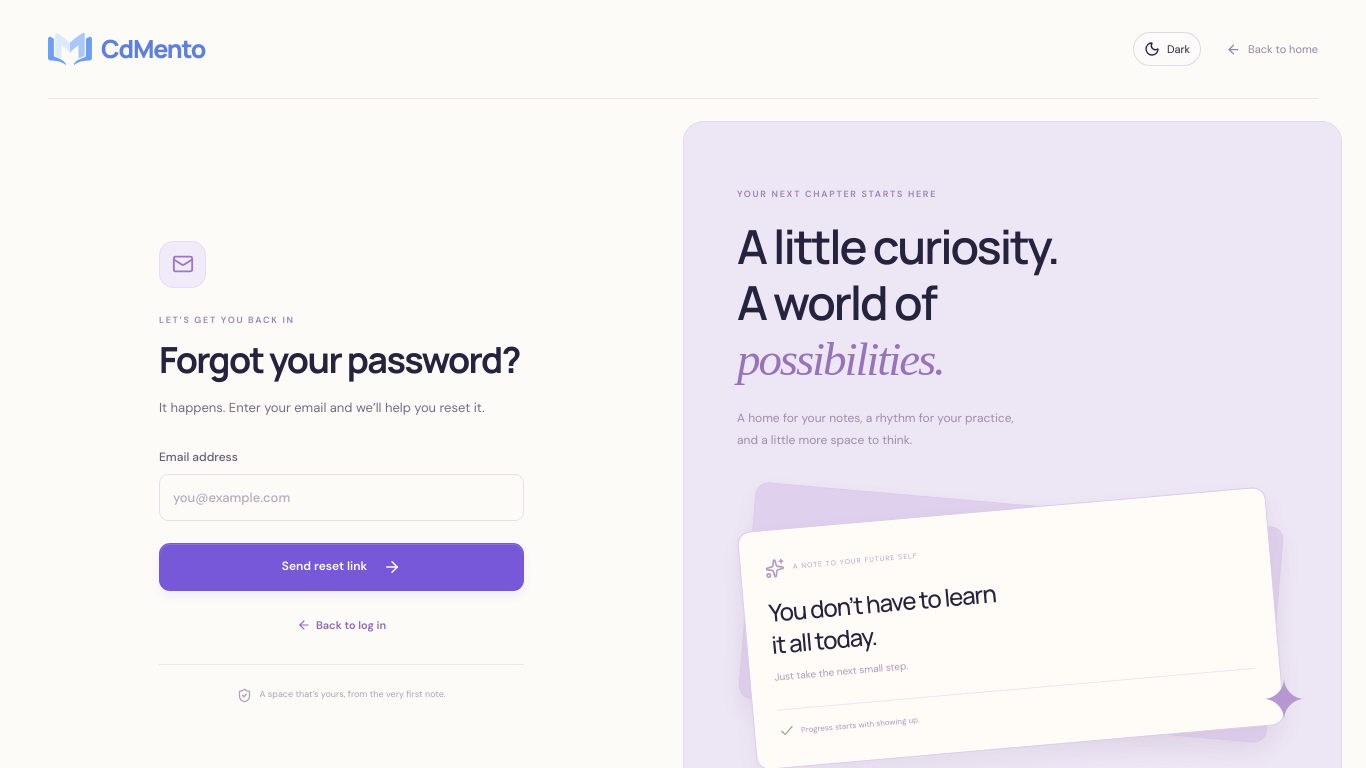
Scenario: configured account flows › gives a neutral confirmation after a successful reset request
Type "learner@example.com" into the field labelled "Email address" at [342, 497], box x1=159 y1=474 x2=524 y2=521
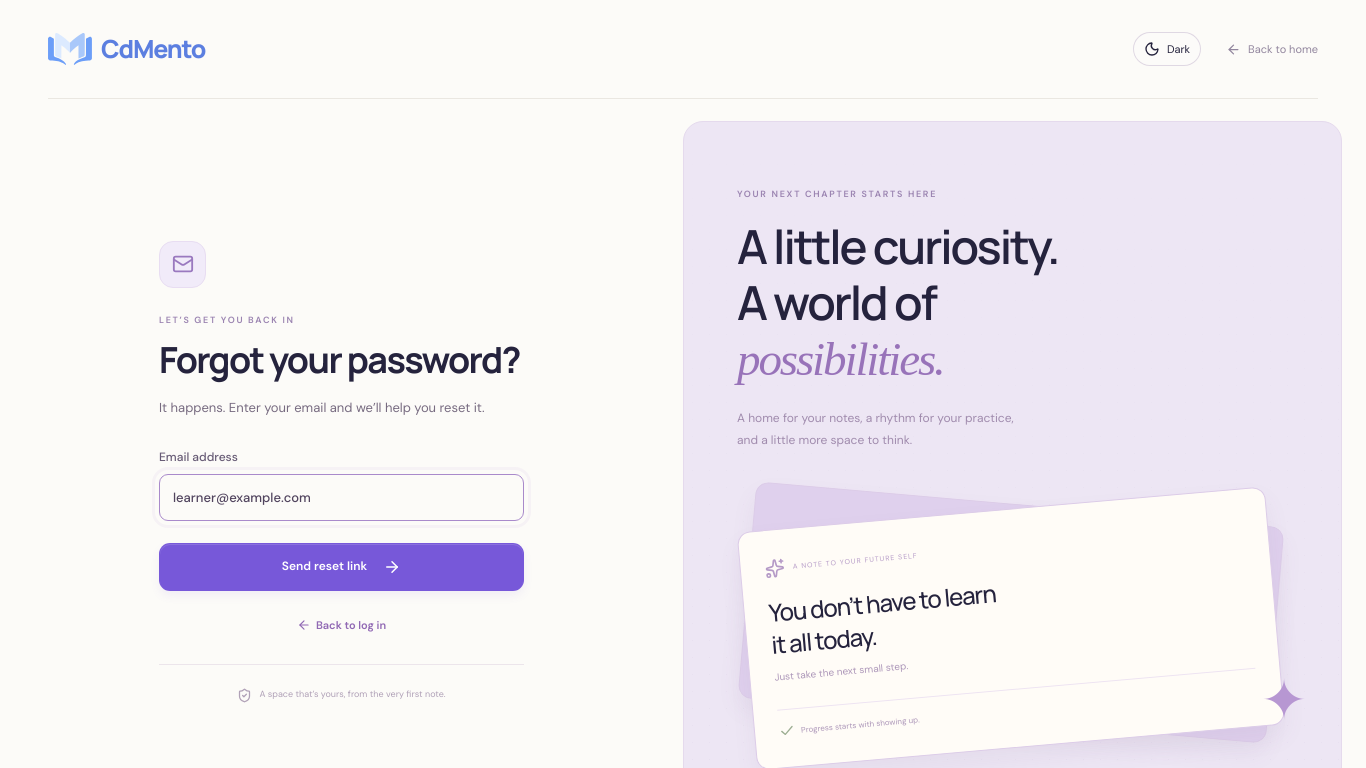
Click the button "Send reset link" at [342, 567], box x1=159 y1=543 x2=524 y2=591
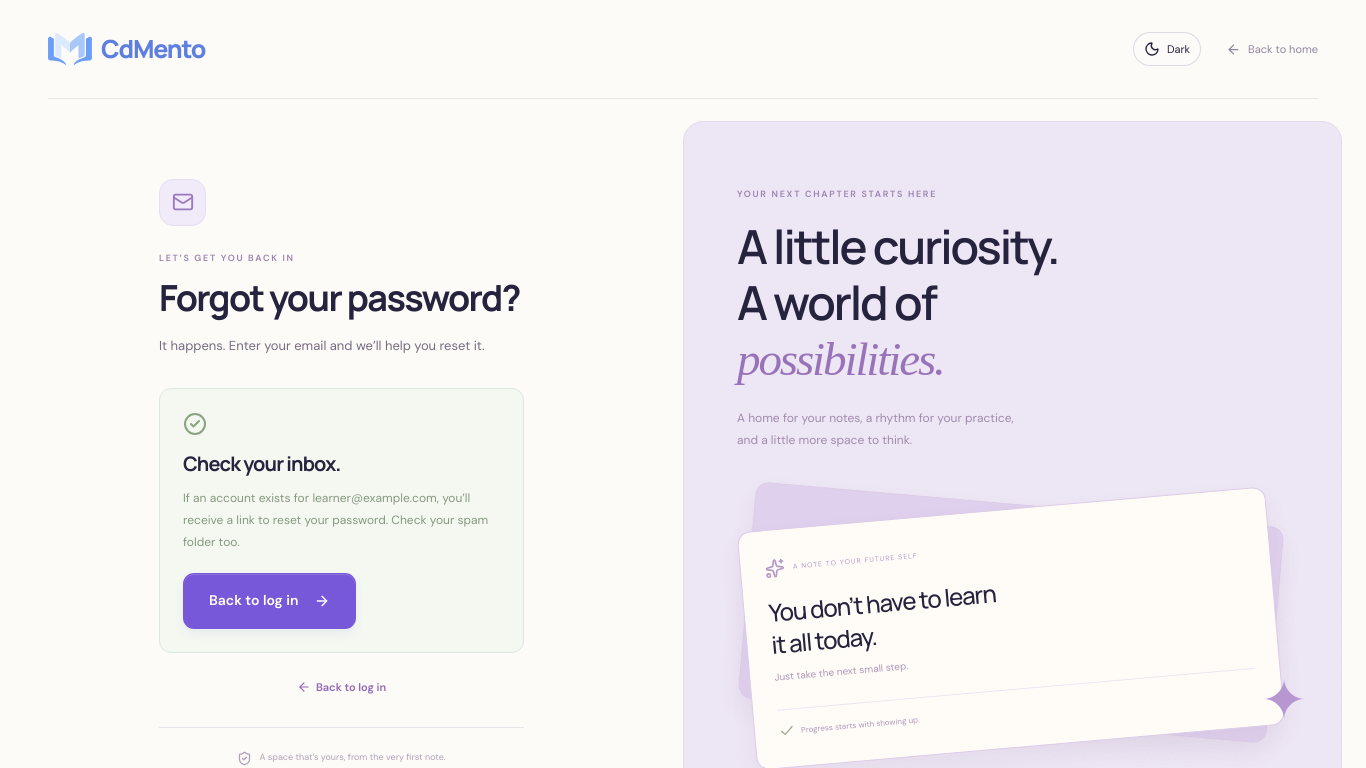
Now the heading "Check your inbox." is shown, box x1=183 y1=450 x2=340 y2=477
Now the text "If an account exists" is shown, box x1=183 y1=490 x2=312 y2=506
